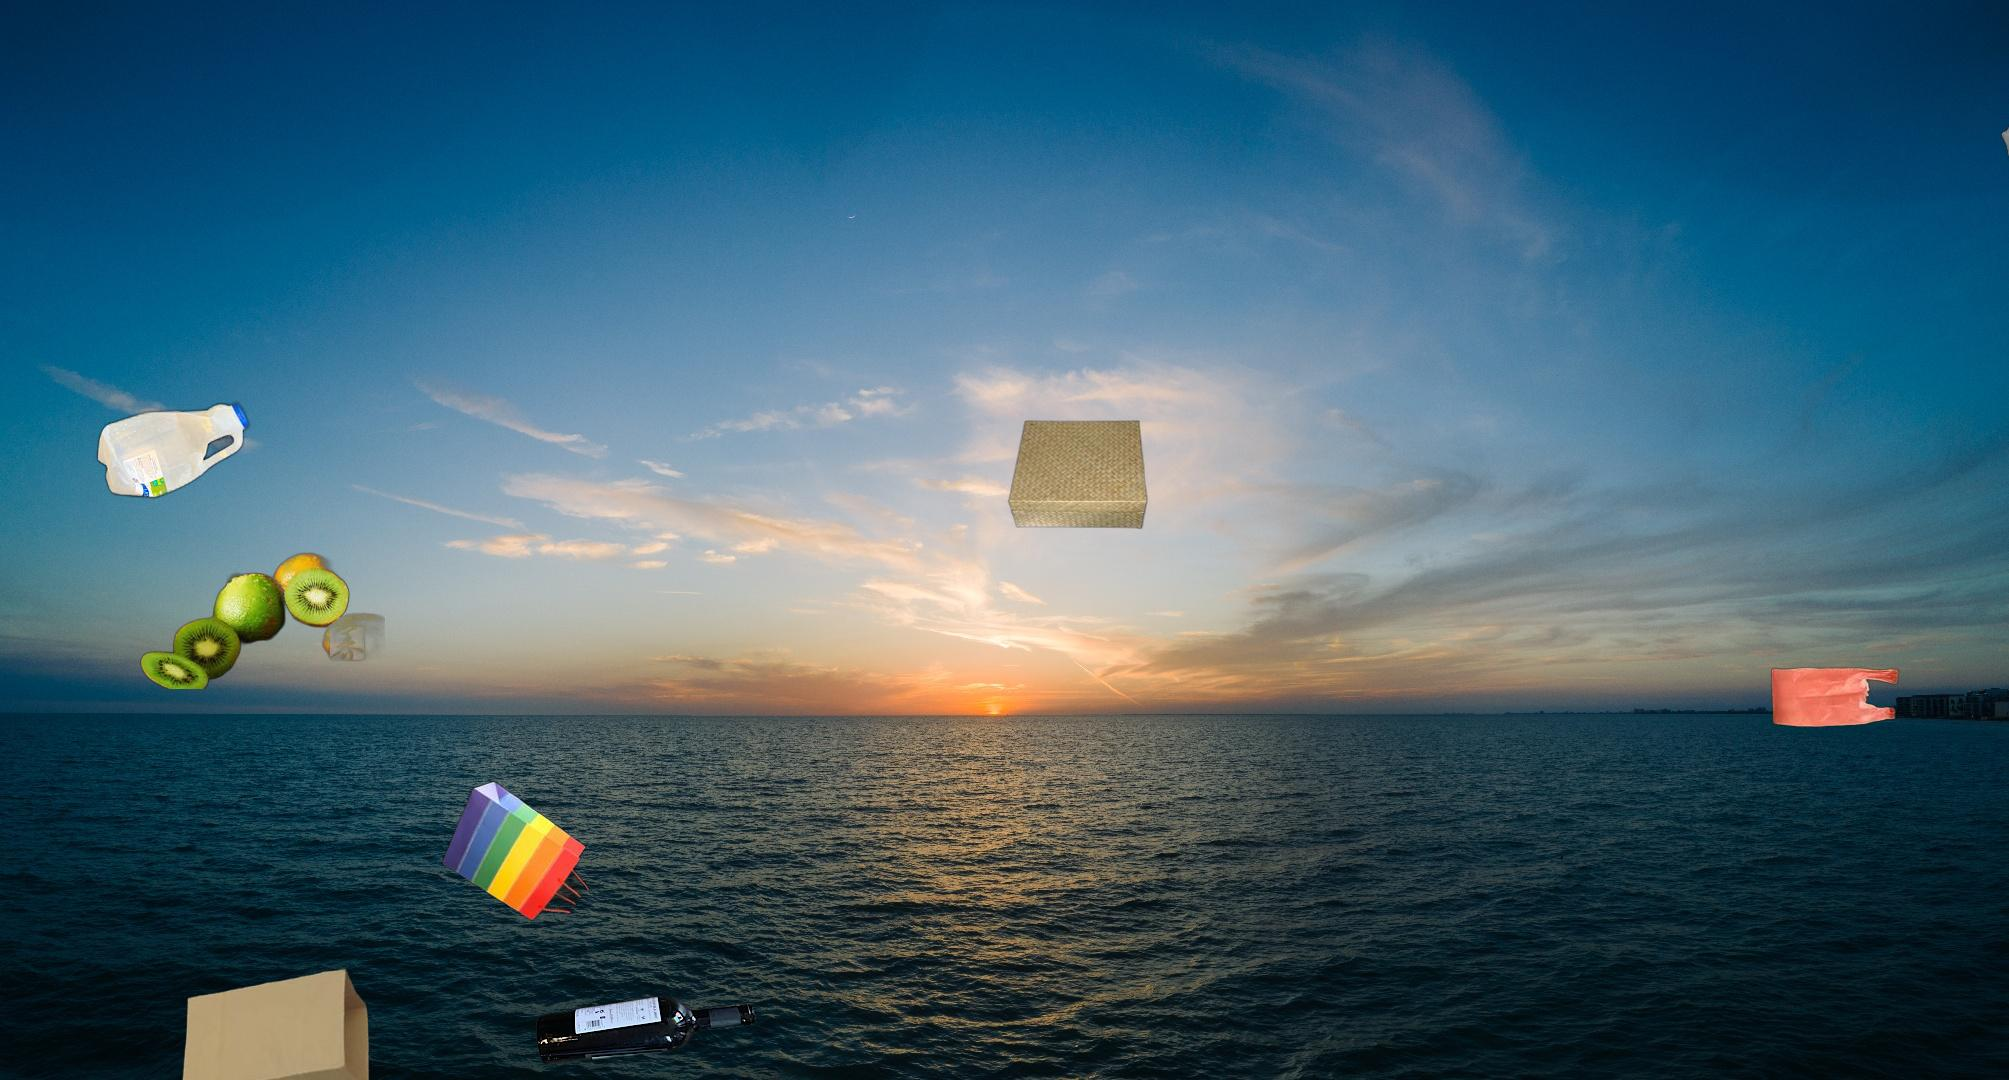biological: (140, 531, 386, 689)
glass: (531, 990, 761, 1069)
paper-bag: (178, 962, 372, 1080), (439, 779, 592, 924)
plastic-bag: (1768, 501, 1901, 730), (1998, 74, 2009, 235)
plastic-bottles: (93, 396, 253, 504)
trashbox-cardboard: (1005, 418, 1150, 532)
